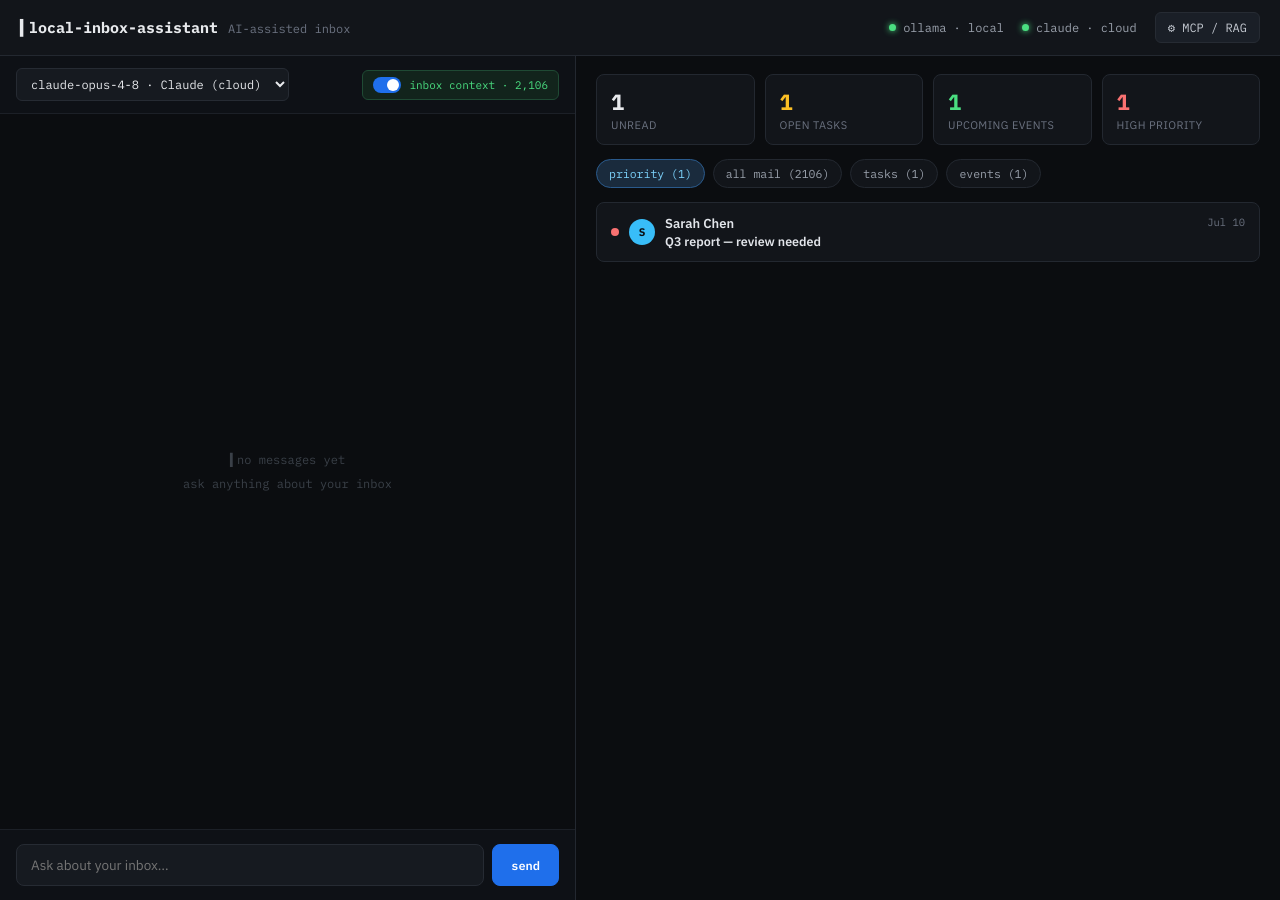
Test: App › sends chat to Claude when it is the selected provider
The width and height of the screenshot is (1280, 900).
Expected: the text "Sarah Chen" is shown, [665, 215, 734, 232]
Type "hello" into the field with placeholder "Ask about your inbox…" at (250,865), box [16, 844, 484, 886]
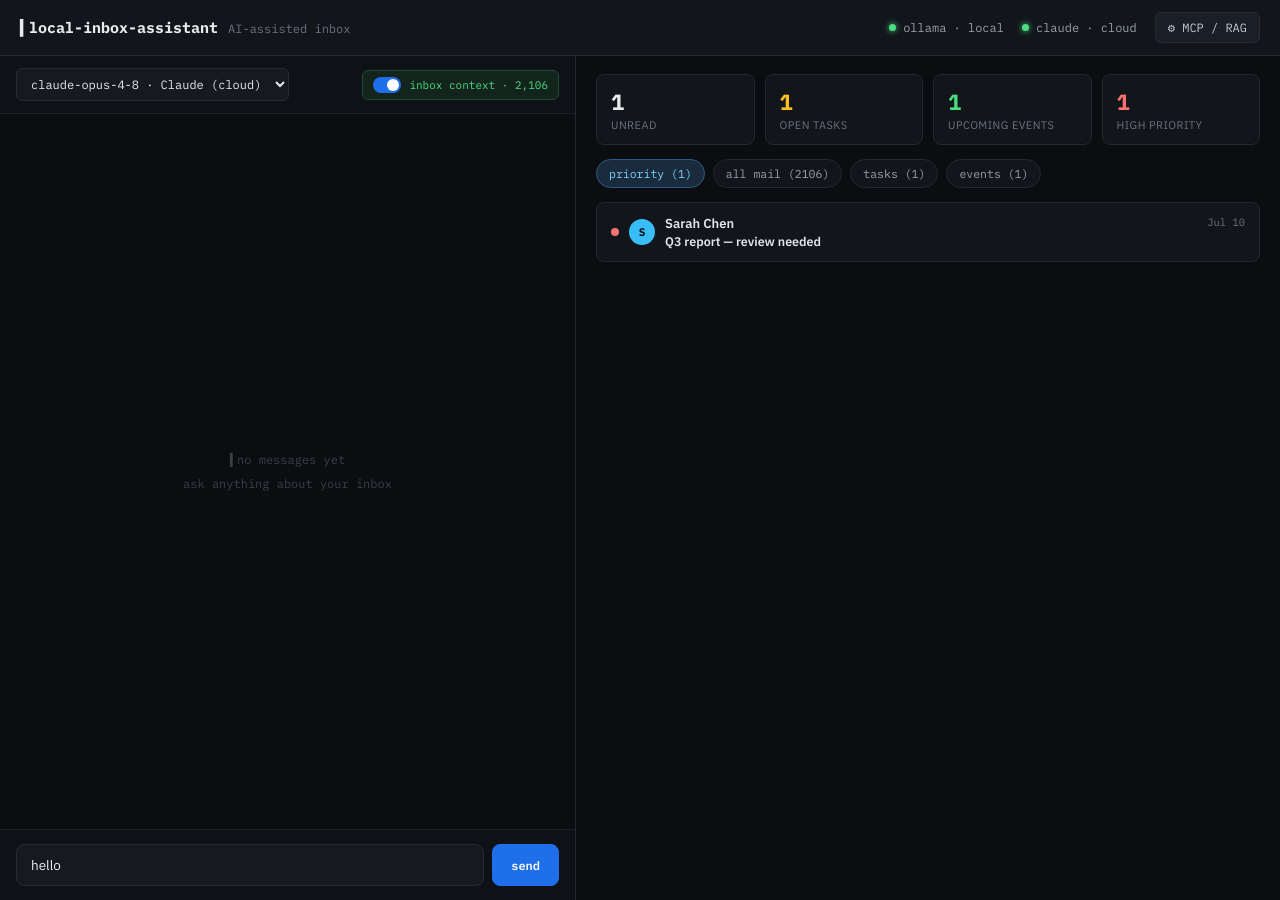
Press Enter
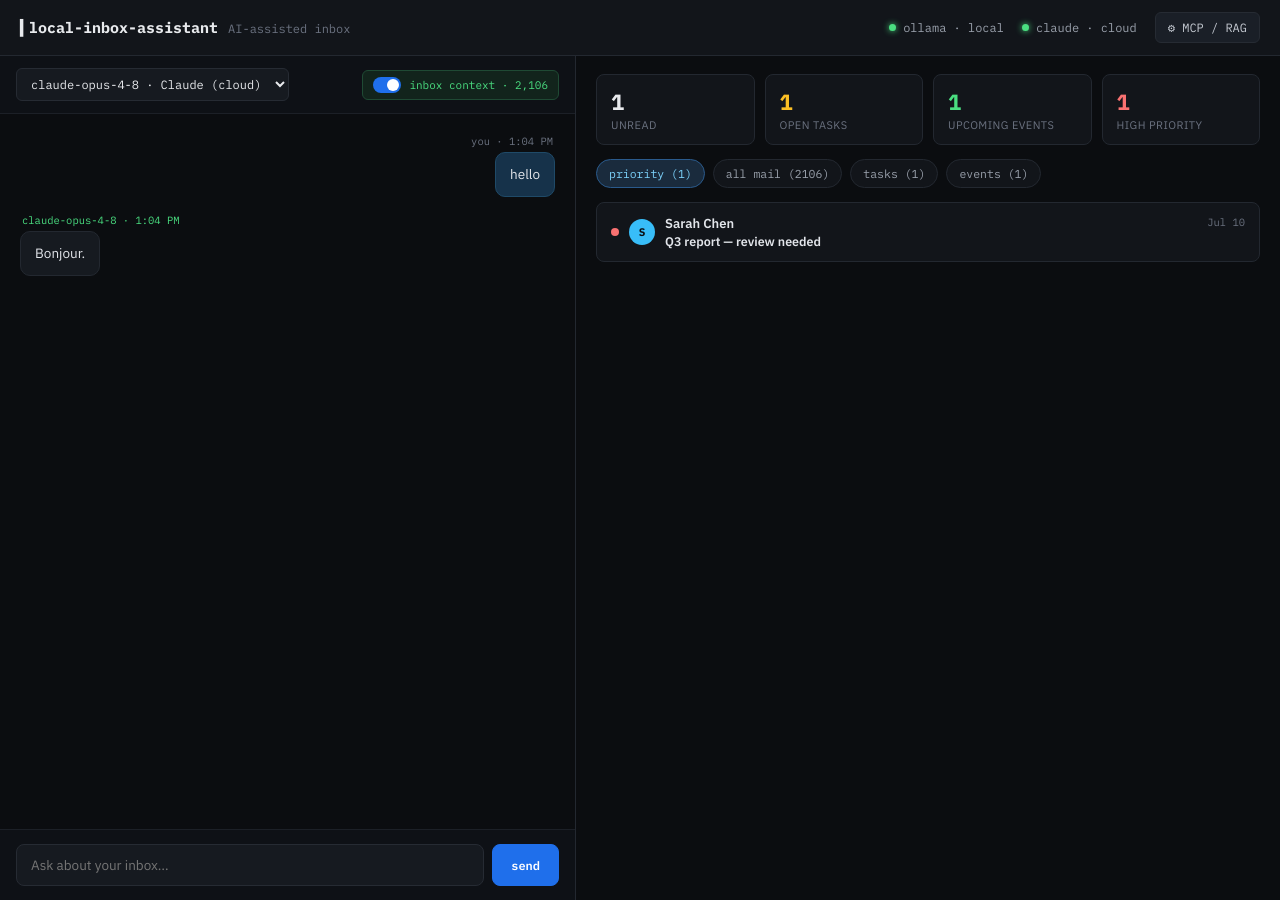
Now the text "Bonjour." is shown, box [35, 243, 85, 264]
Now the text "claude-opus-4-8 · 1:04 PM" is shown, box [20, 213, 182, 227]
